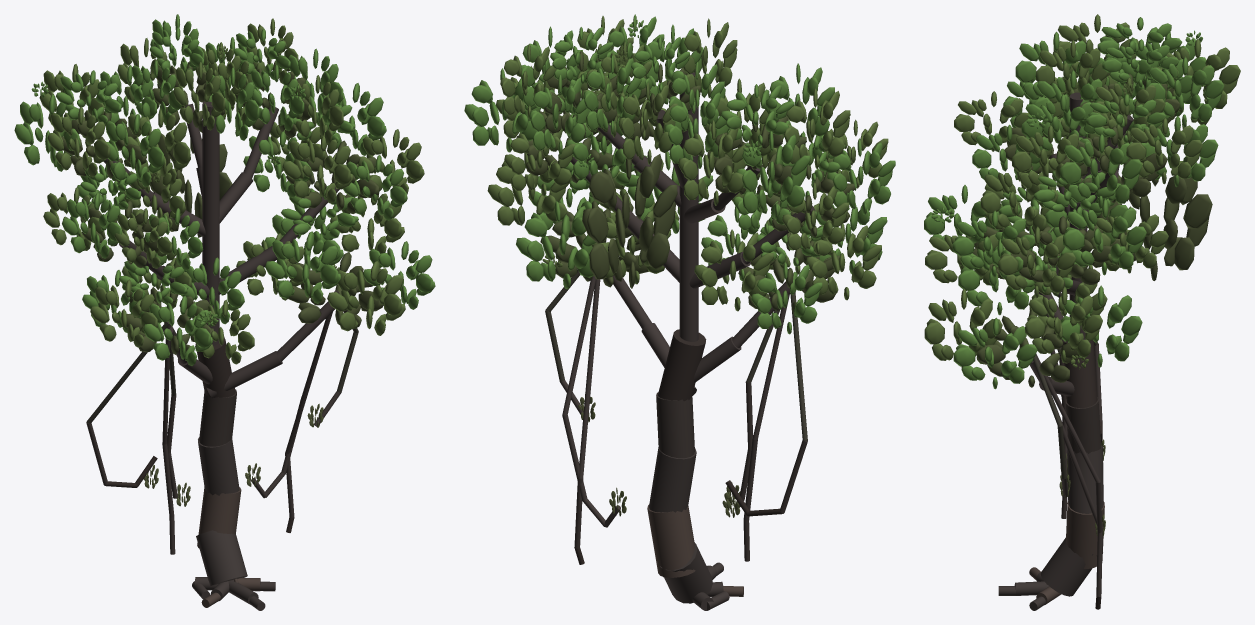
Rendered from CMU3DBroadleafTreeLarge02.glb.
3 renders of one model, left to right at view 1: azimuth 30°, elevation 25°; view 2: azimuth 150°, elevation 25°; view 3: azimuth 270°, elevation 25°, orthographic. The views are drawn at different scales.
Visible parts, largest first — view 1: irregular rounded leaf cluster (×39), rounded leaf core (×7), off-center crown cluster (×7), inferred hidden trunk continuation, source curved trunk 1, source curved trunk 3, source curved trunk 4, shaded inner crown, source curved trunk 2, source curved trunk 5, inferred crown branch 7.1, inferred hanging attachment 5 (+4 smaller); view 2: irregular rounded leaf cluster (×34), rounded leaf core (×7), off-center crown cluster (×5), shaded inner crown, inferred hidden trunk continuation, source curved trunk 2, source curved trunk 3, source curved trunk 5, source curved trunk 4, source curved trunk 1, inferred hanging attachment 5, inferred hanging attachment 3 (+7 smaller); view 3: irregular rounded leaf cluster (×34), off-center crown cluster (×6), rounded leaf core (×3), shaded inner crown, source curved trunk 1, source curved trunk 3, source curved trunk 2, source curved trunk 4, source curved trunk 5, inferred hanging attachment 3, inferred hanging attachment 5, inferred hidden trunk continuation.
Boxes of the visible parts, bbox=[...] form: irregular rounded leaf cluster (×39): bbox=[14, 14, 435, 365]; rounded leaf core (×7): bbox=[61, 61, 383, 354]; off-center crown cluster (×7): bbox=[55, 27, 358, 304]; inferred hidden trunk continuation: bbox=[202, 101, 219, 345]; source curved trunk 1: bbox=[196, 530, 247, 586]; source curved trunk 3: bbox=[198, 437, 239, 495]; source curved trunk 4: bbox=[199, 389, 236, 446]; shaded inner crown: bbox=[149, 133, 232, 237]; source curved trunk 2: bbox=[197, 487, 241, 548]; source curved trunk 5: bbox=[195, 337, 235, 397]; inferred crown branch 7.1: bbox=[206, 351, 282, 398]; inferred hanging attachment 5: bbox=[285, 292, 334, 454]; irregular rounded leaf cluster (×34): bbox=[464, 14, 895, 334]; rounded leaf core (×7): bbox=[516, 50, 855, 314]; off-center crown cluster (×5): bbox=[550, 27, 823, 266]; shaded inner crown: bbox=[582, 154, 677, 288]; inferred hidden trunk continuation: bbox=[679, 70, 698, 341]; source curved trunk 2: bbox=[647, 504, 695, 577]; source curved trunk 3: bbox=[649, 447, 696, 512]; source curved trunk 5: bbox=[658, 329, 706, 401]; source curved trunk 4: bbox=[656, 392, 694, 458]; source curved trunk 1: bbox=[656, 542, 712, 603]; inferred hanging attachment 5: bbox=[578, 279, 600, 478]; inferred hanging attachment 3: bbox=[562, 276, 595, 415]; irregular rounded leaf cluster (×34): bbox=[924, 14, 1240, 389]; off-center crown cluster (×6): bbox=[998, 17, 1182, 292]; rounded leaf core (×3): bbox=[977, 125, 1167, 387]; shaded inner crown: bbox=[1097, 175, 1212, 280]; source curved trunk 1: bbox=[1040, 537, 1097, 596]; source curved trunk 3: bbox=[1067, 445, 1103, 513]; source curved trunk 2: bbox=[1066, 501, 1104, 568]; source curved trunk 4: bbox=[1065, 397, 1101, 453]; source curved trunk 5: bbox=[1063, 340, 1097, 408]; inferred hanging attachment 3: bbox=[1036, 354, 1100, 482]; inferred hanging attachment 5: bbox=[1050, 392, 1102, 527]; inferred hidden trunk continuation: bbox=[1069, 92, 1087, 339].
Size of the model in its own units: 2.87 by 4.19 by 2.21.
